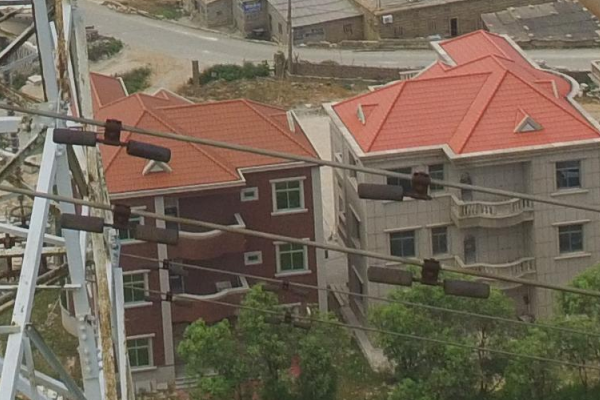damper: (51, 114, 173, 163), (365, 255, 491, 299), (56, 202, 179, 245), (139, 256, 188, 278), (261, 310, 311, 330), (258, 278, 309, 296), (143, 289, 192, 306)
damper_defect: (355, 168, 436, 205)
